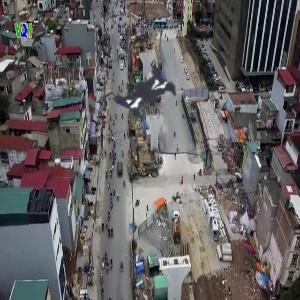drone: (69, 16, 217, 164)
